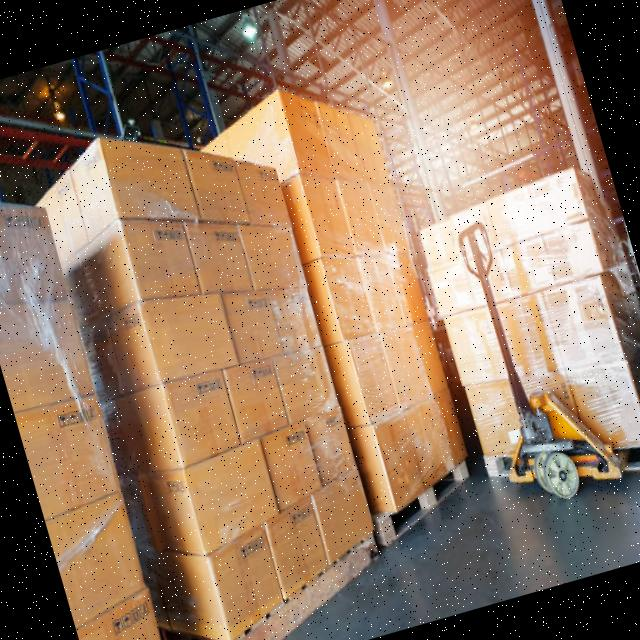Wooden-Pallets: (219, 525, 384, 640), (372, 442, 480, 560)
